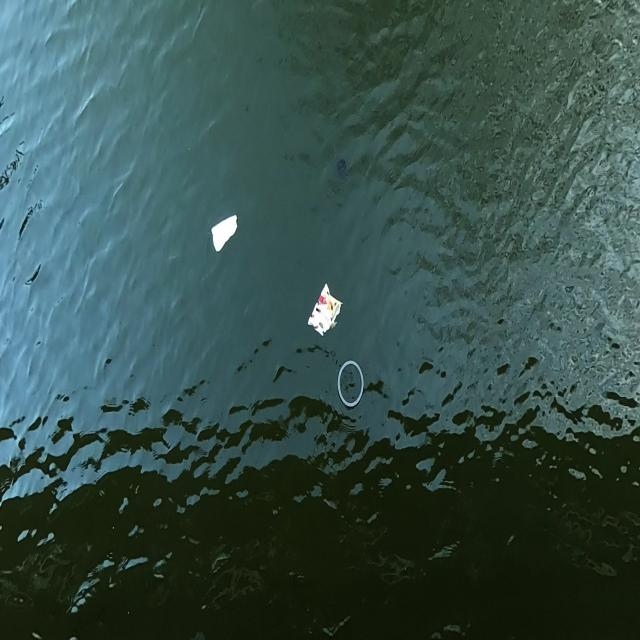Autre plastique: (304, 278, 348, 338)
